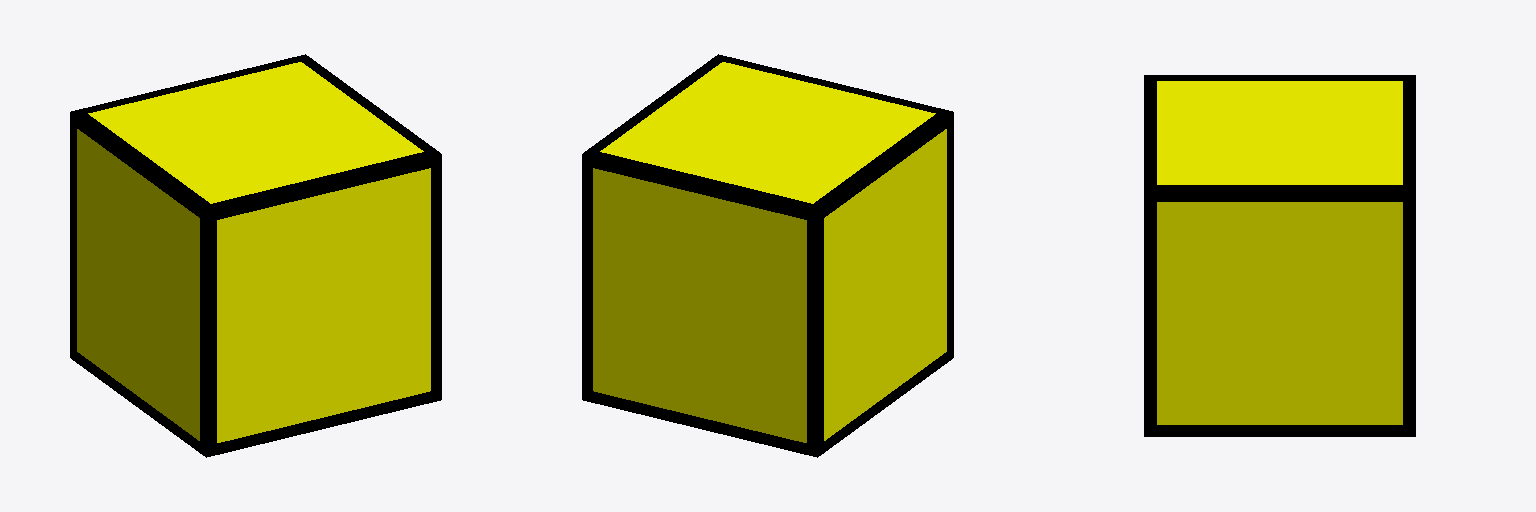
The picture shows the model from 3 angles: view 1: azimuth 30°, elevation 25°; view 2: azimuth 150°, elevation 25°; view 3: azimuth 270°, elevation 25°; orthographic projection.
Parts seen in each view (by area): view 1: cheese; view 2: cheese; view 3: cheese.
Boxes of the visible parts, x1=… form: cheese: x1=70, y1=54, x2=441, y2=457; cheese: x1=582, y1=54, x2=953, y2=457; cheese: x1=1144, y1=75, x2=1415, y2=436.
Size of the model in its own units: 1 by 1 by 1.
1 materials, 1 textured.